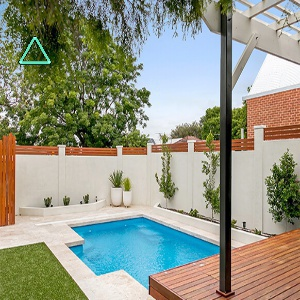triangle: (17, 35, 55, 67)
